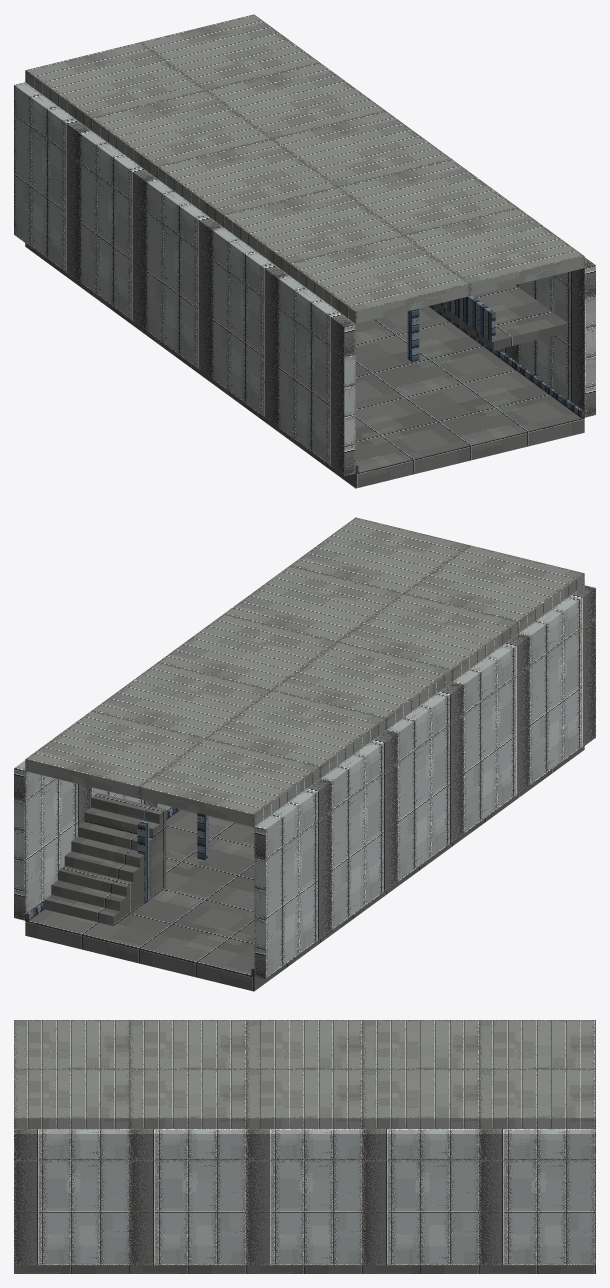
The model's file is shell_corridor_gallery.glb.
3 renders of one model, top to bottom at view 1: azimuth 30°, elevation 25°; view 2: azimuth 150°, elevation 25°; view 3: azimuth 270°, elevation 25°, orthographic. The views are drawn at different scales.
Visible parts, largest first — view 1: shell_corridor_gallery; view 2: shell_corridor_gallery; view 3: shell_corridor_gallery.
Boxes of the visible parts, box(x1,y1,x2,y2) form: shell_corridor_gallery: box(14, 14, 595, 488); shell_corridor_gallery: box(14, 517, 595, 991); shell_corridor_gallery: box(14, 1020, 595, 1273).
Bounding box in the file's own units: 8.8 × 5.9 × 20.
20 materials, 20 textured.
